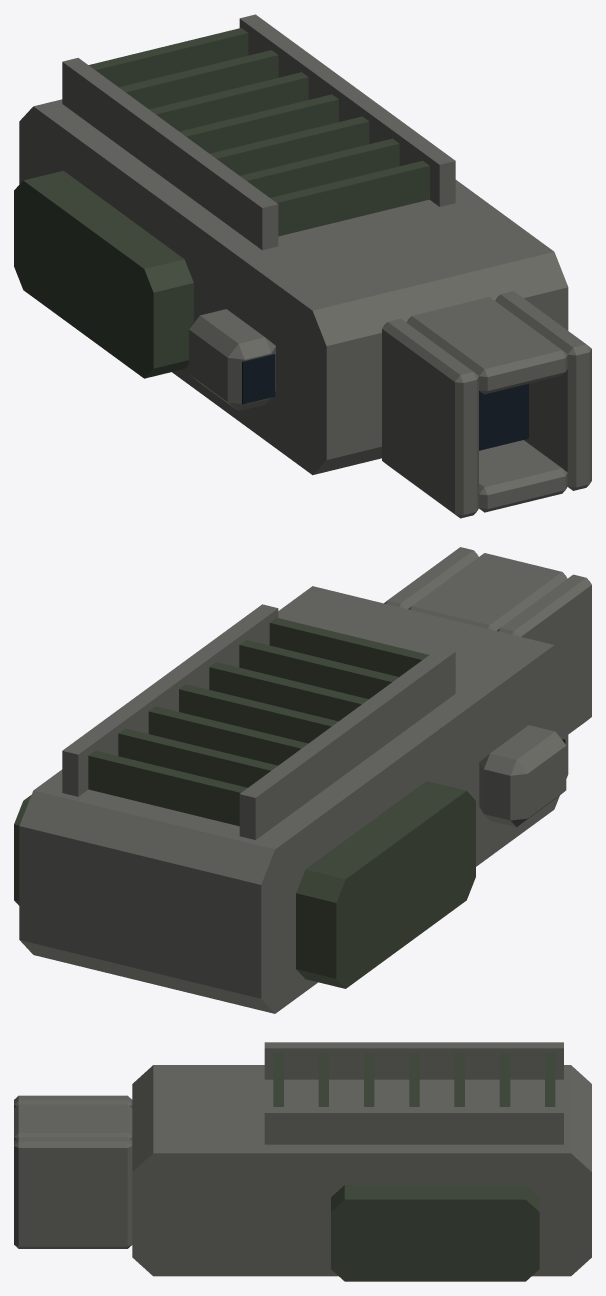
File: pt2_emitter.obj
The picture shows the model from 3 angles, top to bottom: view 1: azimuth 30°, elevation 25°; view 2: azimuth 150°, elevation 25°; view 3: azimuth 270°, elevation 25°; orthographic projection. The views are drawn at different scales.
Parts seen in each view (by area): view 1: pt2_emitter; view 2: pt2_emitter; view 3: pt2_emitter.
Part boxes in pixels (x1,y1,x2,y2): pt2_emitter: (14, 14, 591, 518); pt2_emitter: (14, 547, 591, 1013); pt2_emitter: (14, 1042, 591, 1281).
Size of the model in its own units: 0.82 by 0.49 by 1.66.
